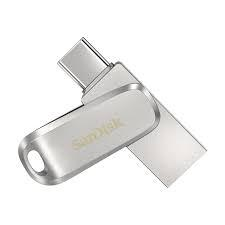Flash-drive: (47, 26, 216, 197)
